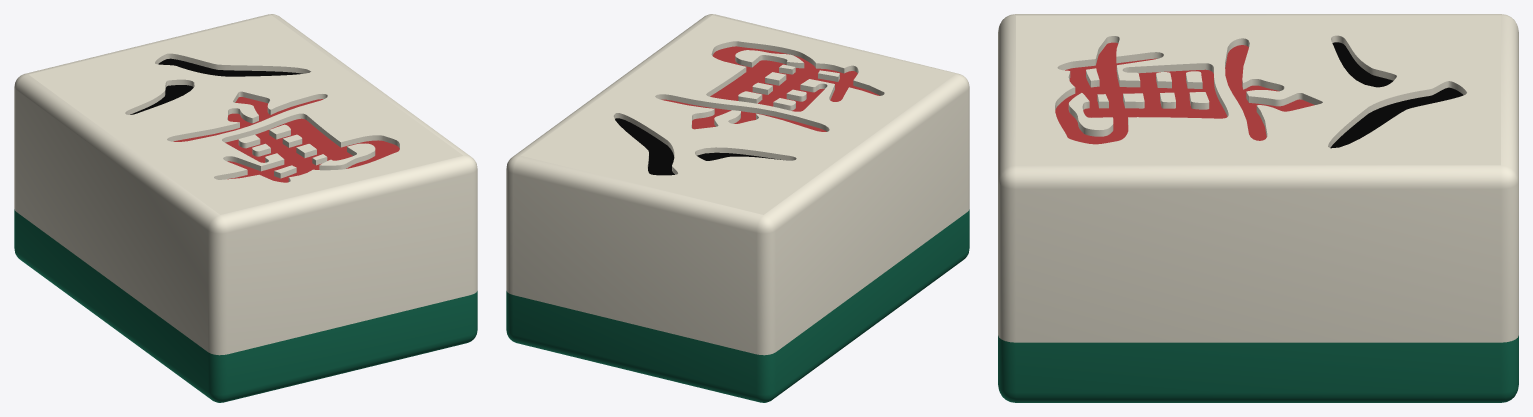
The model's file is Man8.glb.
3 views of the same model, side by side, from view 1: azimuth 30°, elevation 25°; view 2: azimuth 150°, elevation 25°; view 3: azimuth 270°, elevation 25° (orthographic). The views are drawn at different scales.
Parts seen in each view (by area): view 1: Man8_body, Man8_inset; view 2: Man8_body, Man8_inset; view 3: Man8_body, Man8_inset.
Boxes of the visible parts, x1,y1,x2,y2 form: Man8_body: [14, 14, 477, 402]; Man8_inset: [130, 58, 399, 182]; Man8_body: [506, 14, 969, 402]; Man8_inset: [615, 46, 879, 175]; Man8_body: [998, 14, 1518, 402]; Man8_inset: [1055, 42, 1463, 148].
Bounding box in the file's own units: 0.024 × 0.016 × 0.032.
